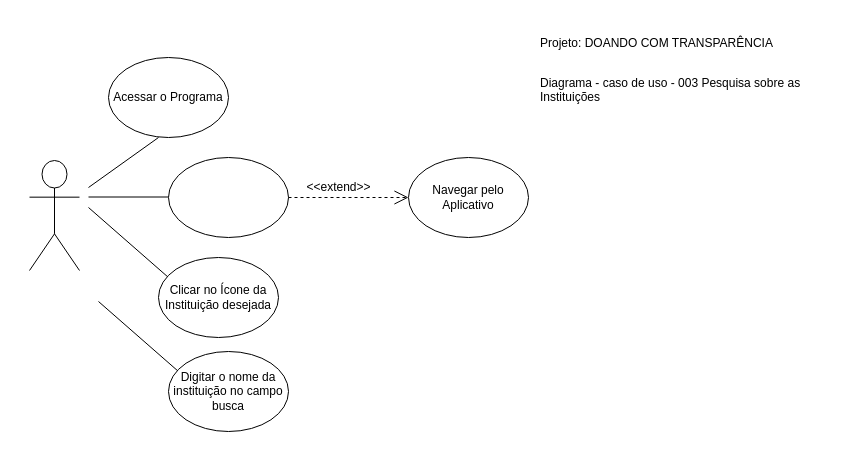
Some shapes in this 846 by 449 pixel diagram are drawn without their labels. The box of each missing label's shape, as (x1, y1, x2, y2) in pixels:
Clicar no menu ENTRAR: (168, 156, 288, 238)
Doador Usuário Geral: (28, 160, 80, 270)
